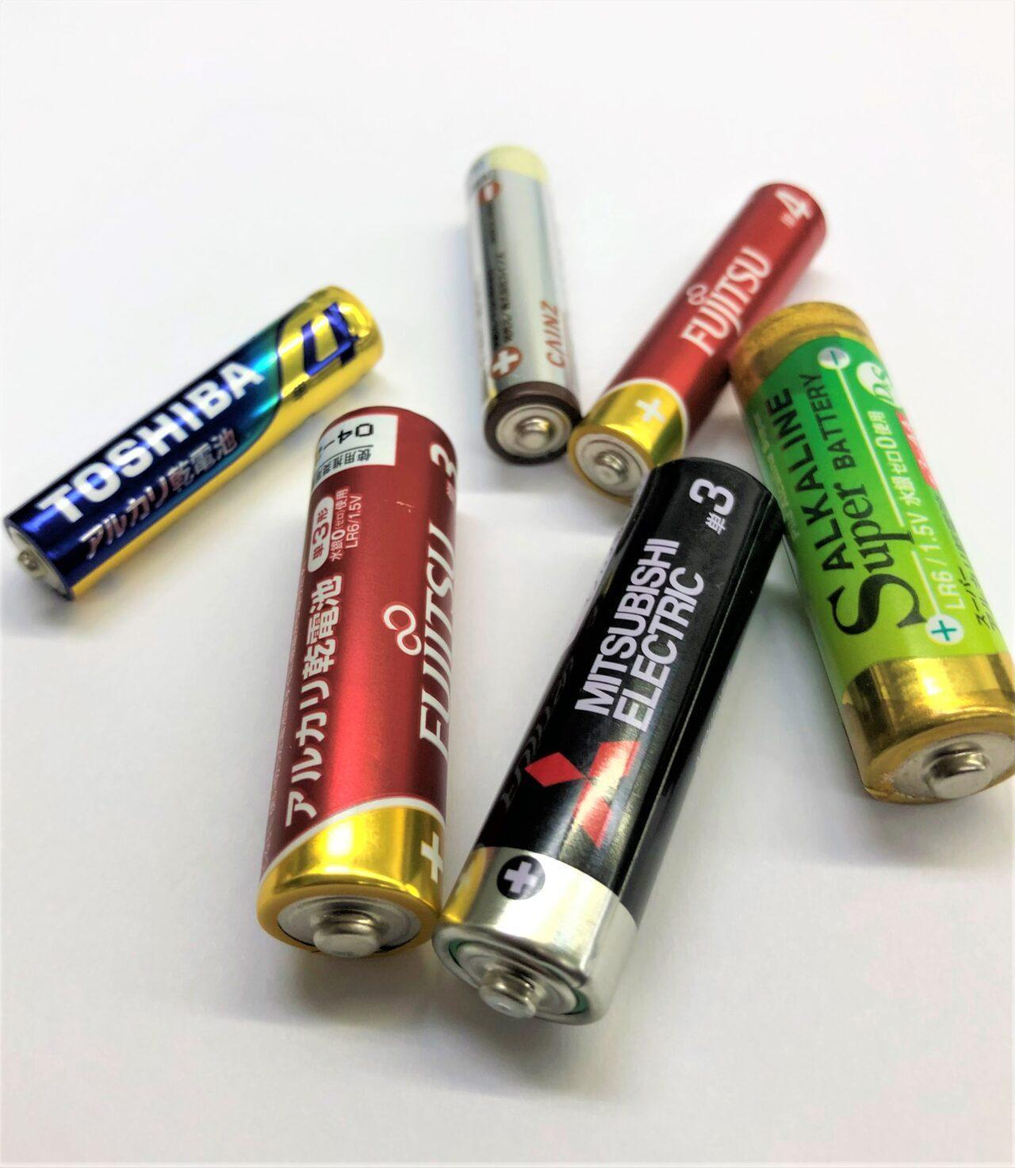AA: (428, 452, 794, 1035), (722, 293, 1014, 812), (249, 399, 466, 972)
AAA: (0, 277, 395, 607), (571, 177, 834, 508), (462, 141, 588, 472)
